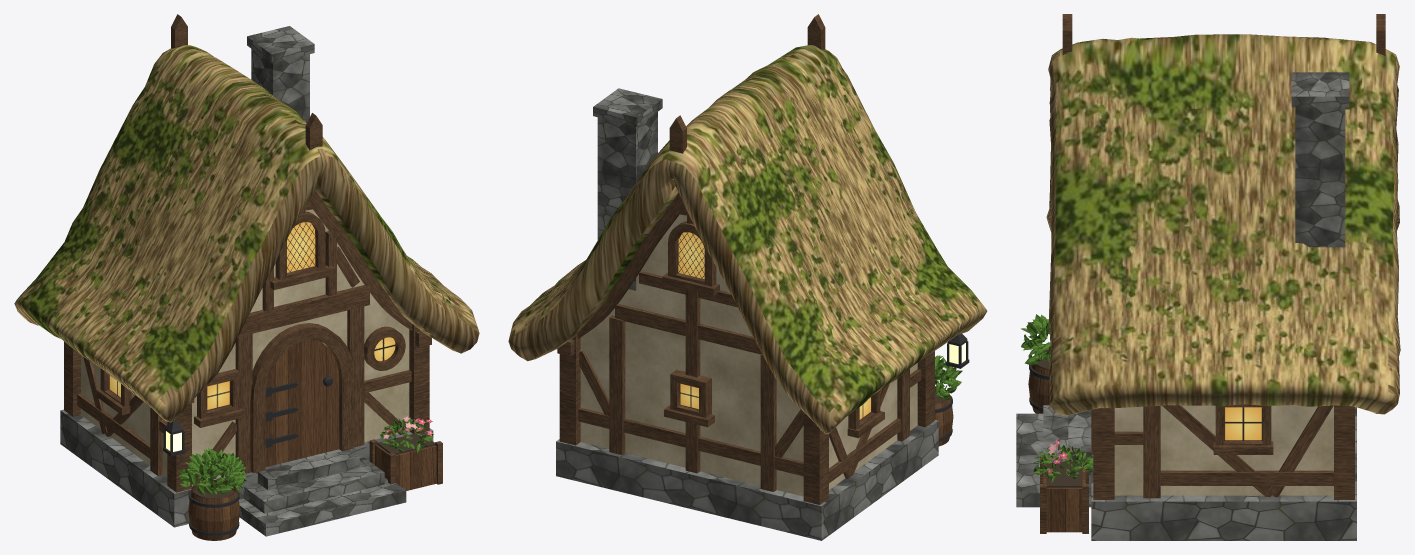
File: house.glb
The picture shows the model from 3 angles, left to right: view 1: azimuth 30°, elevation 25°; view 2: azimuth 150°, elevation 25°; view 3: azimuth 270°, elevation 25°; orthographic projection. The views are drawn at different scales.
Visible parts, largest first — view 1: ThatchRoof, Door, Chimney, BarrelPlanter, PlasterWalls, Window_BackGable, Window_BackLower; view 2: ThatchRoof, Door, PlasterWalls, Chimney, BarrelPlanter, Window_BackGable, Window_BackLower; view 3: ThatchRoof, Chimney, Door, PlasterWalls, BarrelPlanter, Window_BackLower.
Part boxes in pixels (bbox=[...]): ThatchRoof: bbox=[14, 45, 479, 422]; Door: bbox=[64, 14, 442, 492]; Chimney: bbox=[60, 26, 433, 536]; BarrelPlanter: bbox=[163, 340, 436, 540]; PlasterWalls: bbox=[81, 209, 409, 478]; Window_BackGable: bbox=[287, 222, 315, 272]; Window_BackLower: bbox=[109, 375, 230, 410]; ThatchRoof: bbox=[508, 45, 987, 434]; Door: bbox=[557, 14, 934, 504]; PlasterWalls: bbox=[580, 214, 917, 496]; Chimney: bbox=[556, 88, 938, 540]; BarrelPlanter: bbox=[935, 333, 969, 446]; Window_BackGable: bbox=[678, 232, 704, 278]; Window_BackLower: bbox=[680, 383, 871, 420]; ThatchRoof: bbox=[1046, 34, 1400, 415]; Chimney: bbox=[1016, 72, 1356, 540]; Door: bbox=[1040, 14, 1385, 533]; PlasterWalls: bbox=[1114, 405, 1333, 495]; BarrelPlanter: bbox=[1021, 314, 1093, 532]; Window_BackLower: bbox=[1224, 407, 1262, 440].
Size of the model in its own units: 4.71 by 5.2 by 3.99.
Materials: 13 (13 with a texture image).
